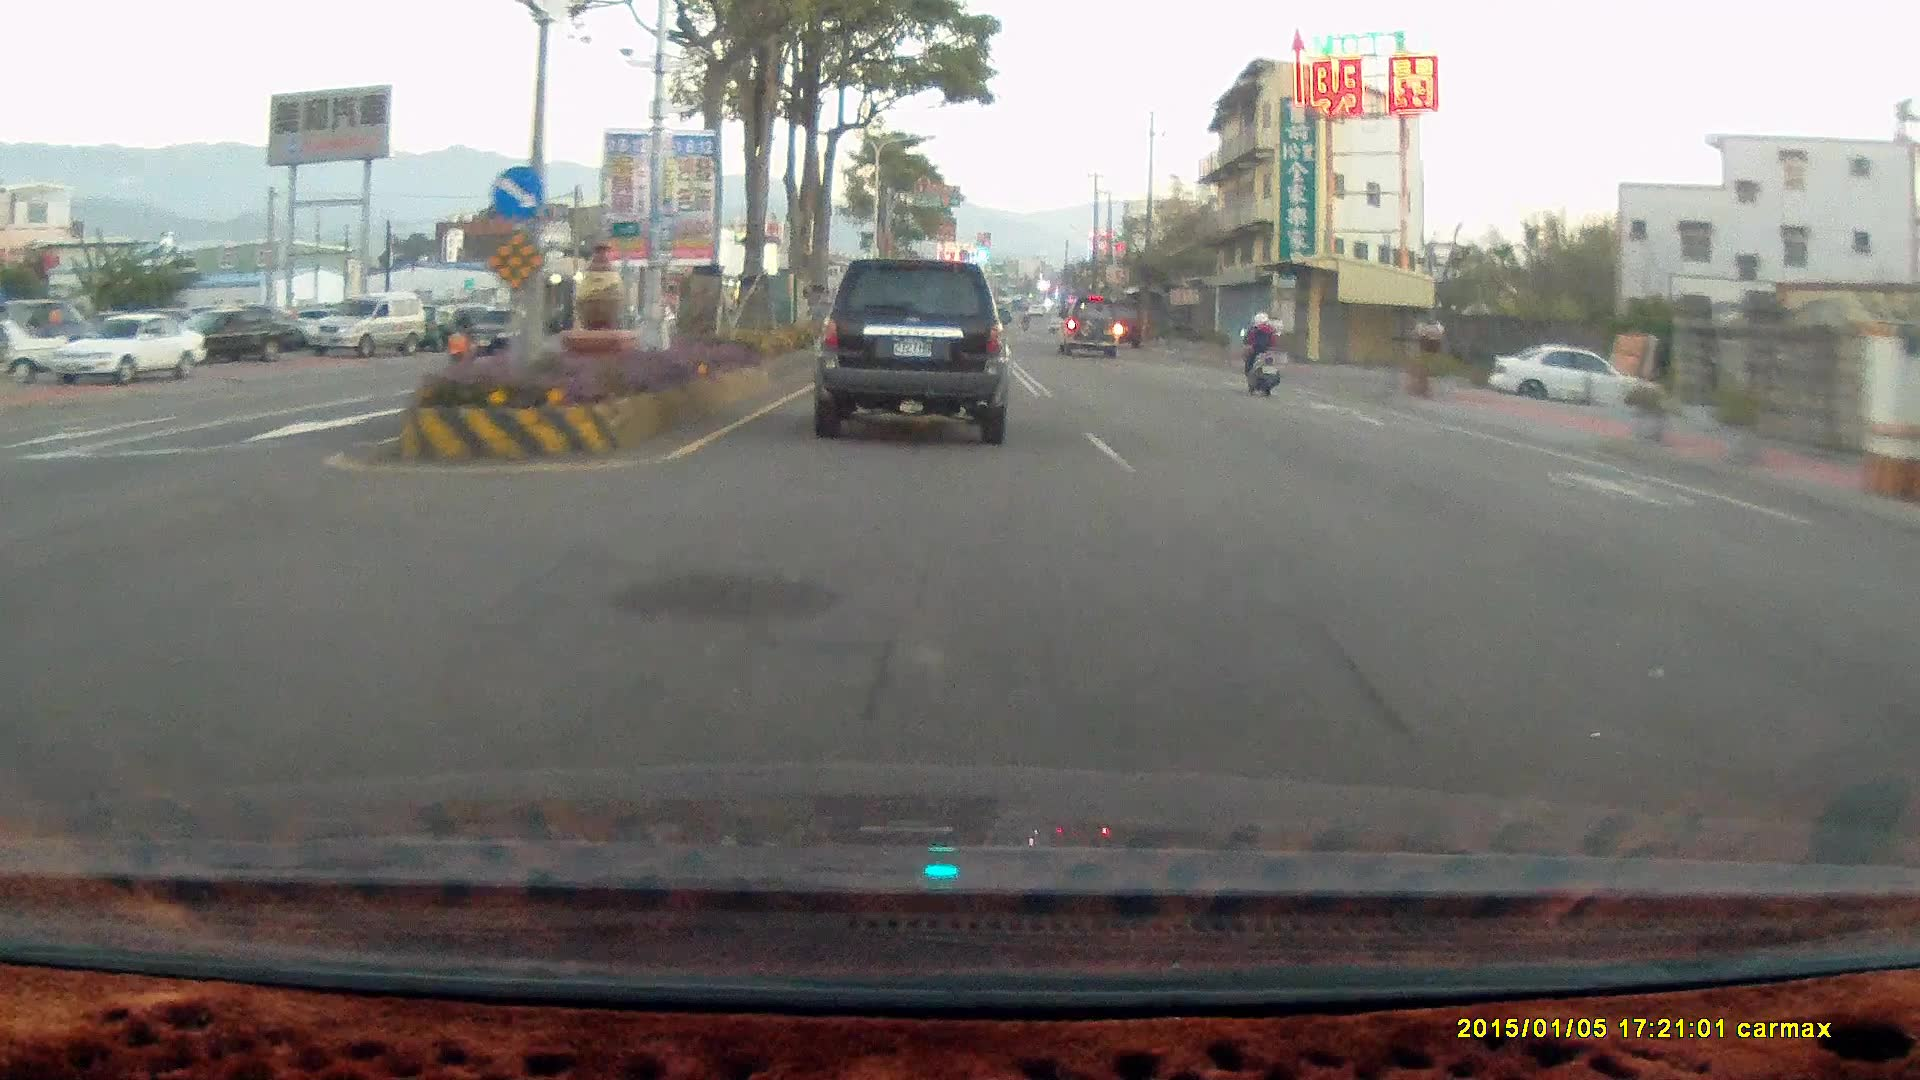rider: (1231, 303, 1291, 403), (1237, 304, 1281, 392), (441, 304, 480, 368)
vehicle: (813, 251, 1012, 443), (810, 253, 1013, 441), (1487, 343, 1668, 414), (1487, 347, 1672, 413), (41, 318, 207, 386), (46, 314, 209, 383), (164, 304, 310, 366), (164, 304, 309, 365), (311, 292, 429, 356), (311, 292, 428, 355), (466, 309, 552, 362), (1061, 296, 1122, 360), (465, 305, 544, 353), (1056, 290, 1118, 352), (1098, 298, 1142, 349)
